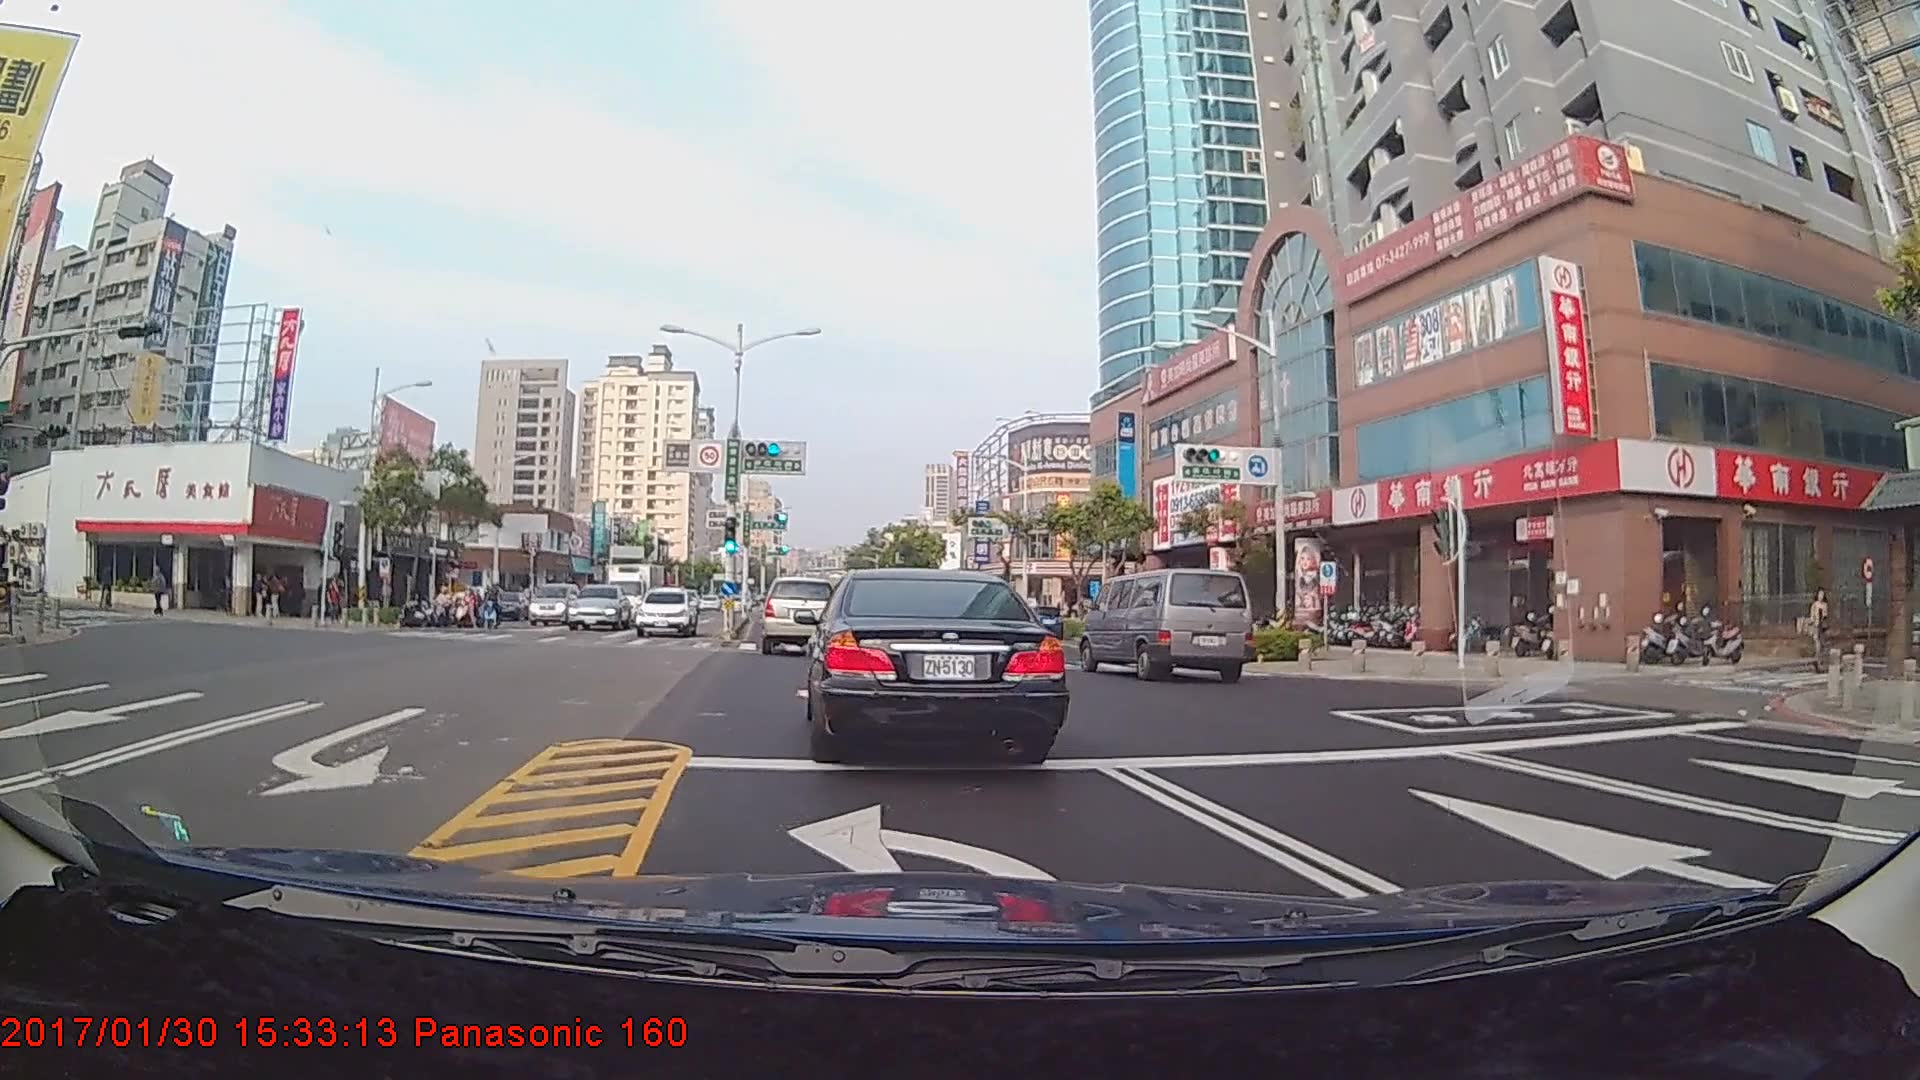pedestrian: (1808, 590, 1833, 663), (255, 571, 275, 621), (148, 565, 168, 614), (268, 573, 288, 621)
vehicle: (806, 565, 1064, 758), (1083, 564, 1250, 683), (761, 577, 839, 654), (608, 555, 670, 628), (566, 583, 635, 632), (635, 585, 699, 638), (528, 580, 584, 626), (1014, 602, 1064, 642)
